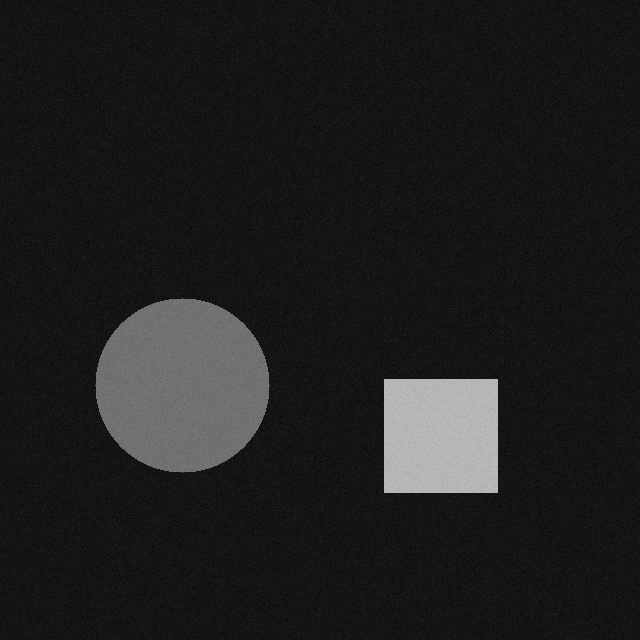circle: (92, 292, 266, 466)
square: (381, 373, 494, 486)
